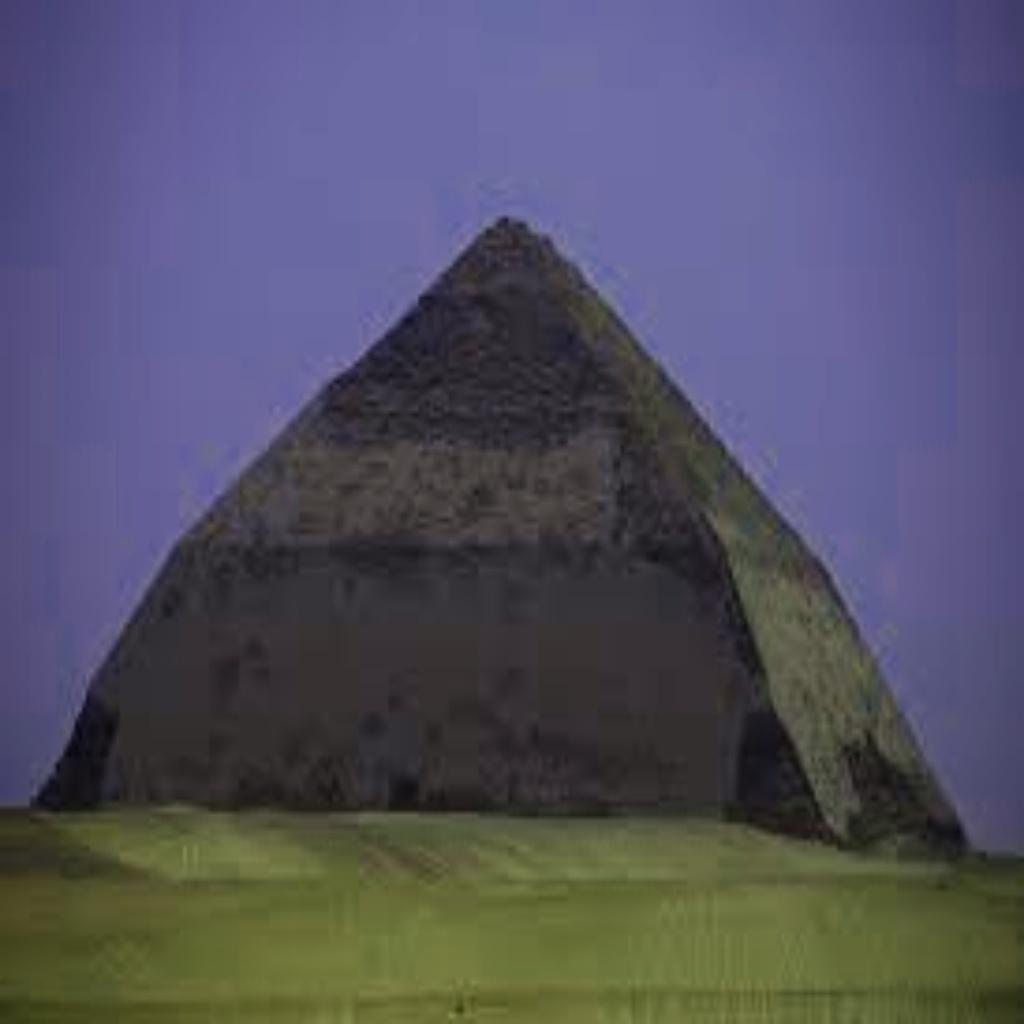Bent Pyramid of King Sneferu: (26, 200, 972, 862)
